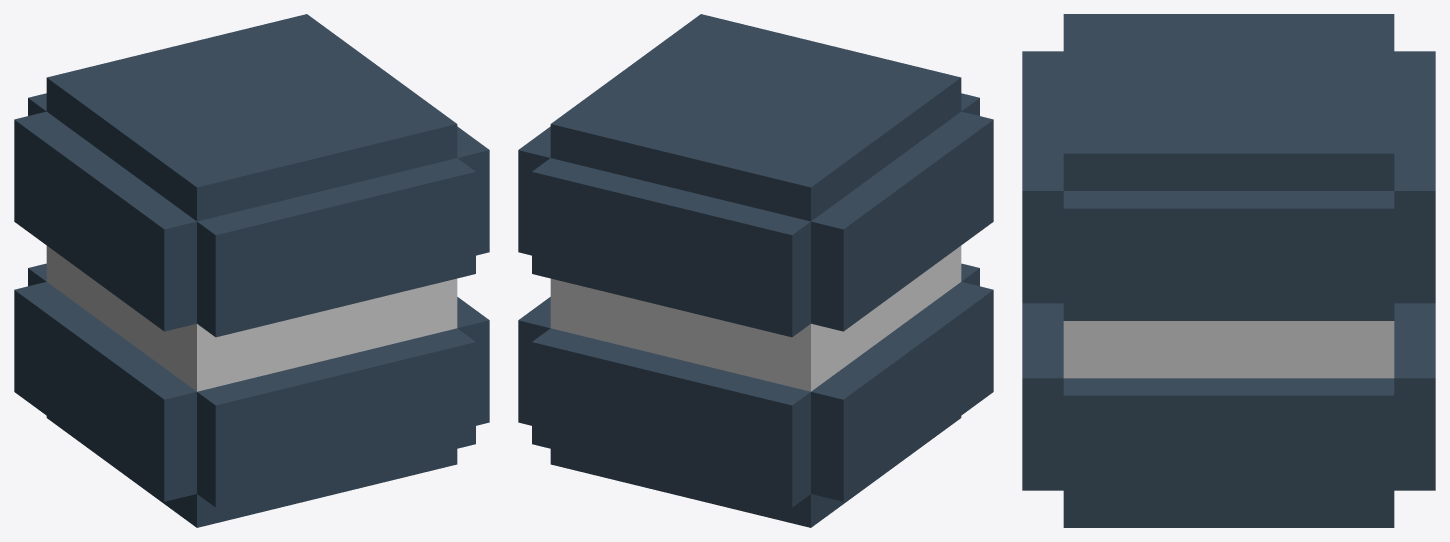
Rendered from Container.fbx.
3 renders of one model, left to right at view 1: azimuth 30°, elevation 25°; view 2: azimuth 150°, elevation 25°; view 3: azimuth 270°, elevation 25°, orthographic. The views are drawn at different scales.
Visible parts, largest first — view 1: Container; view 2: Container; view 3: Container.
Part boxes in pixels (left/top/right/bottom): Container: left=14, top=14, right=489, bottom=527; Container: left=518, top=14, right=993, bottom=527; Container: left=1022, top=14, right=1435, bottom=527.
Bounding box in the file's own units: 10 × 10 × 10.
